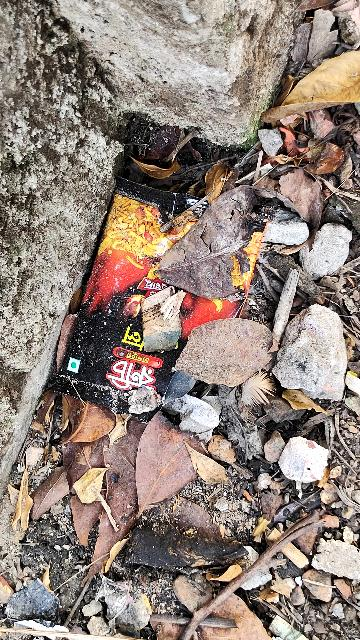packet: (48, 134, 281, 418)
